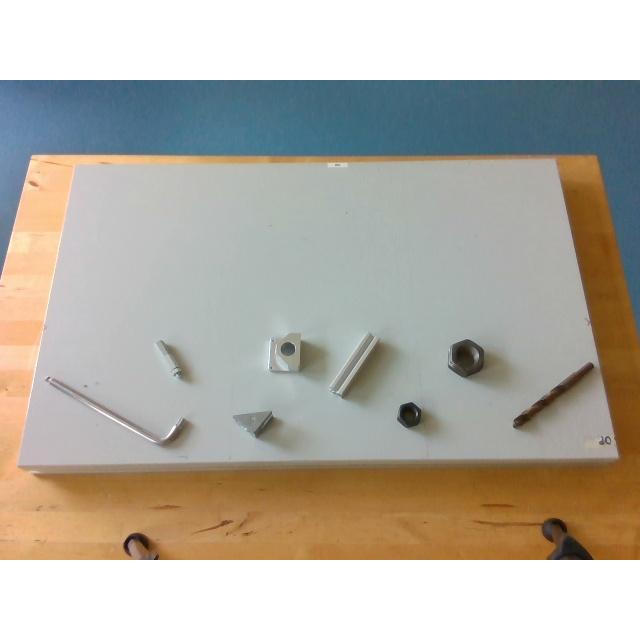AllenKey: (44, 376, 186, 448)
Drill: (512, 362, 594, 426)
F20_20_G: (328, 332, 377, 396)
M20: (397, 402, 421, 426)
M30: (448, 339, 484, 375)
